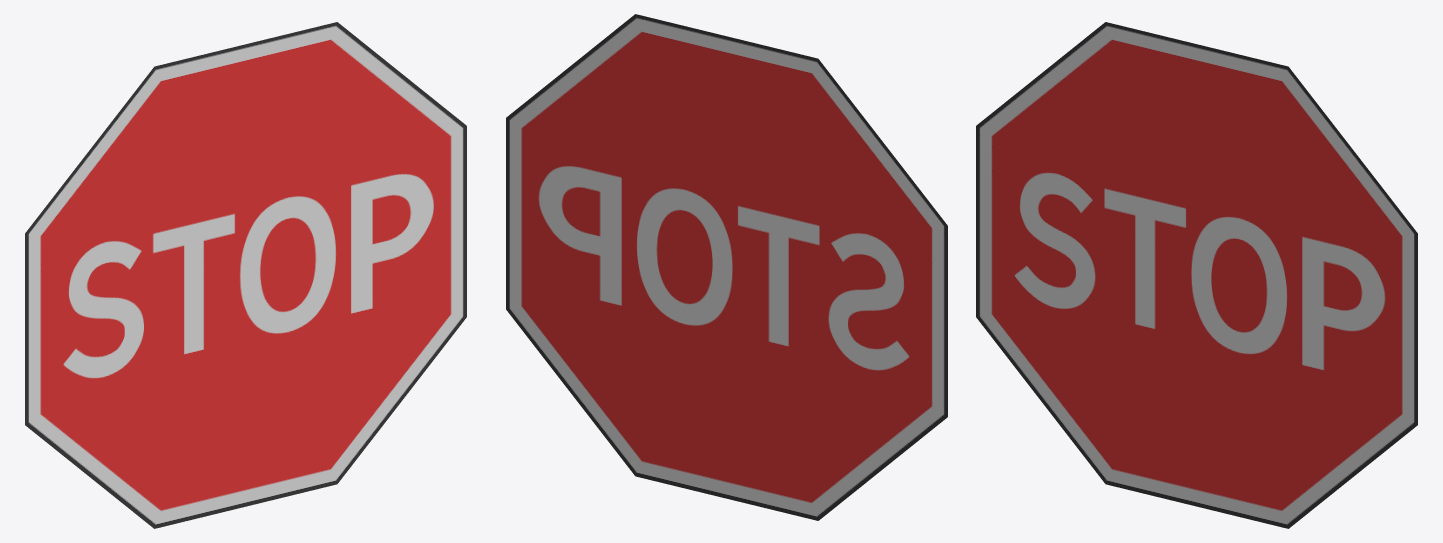
Rendered from Sign Stop.FBX.
3 views of the same model, side by side, from view 1: azimuth 30°, elevation 25°; view 2: azimuth 150°, elevation 25°; view 3: azimuth 330°, elevation 25° (orthographic).
Visible parts, largest first — view 1: Sign Stop; view 2: Sign Stop; view 3: Sign Stop.
Part boxes in pixels (box(x1,y1,x2,y2)): Sign Stop: box(25, 22, 466, 528); Sign Stop: box(506, 14, 947, 520); Sign Stop: box(976, 22, 1417, 528).
Bounding box in the file's own units: 70.77 × 70.77 × 3.
Materials: 1 (1 with a texture image).
